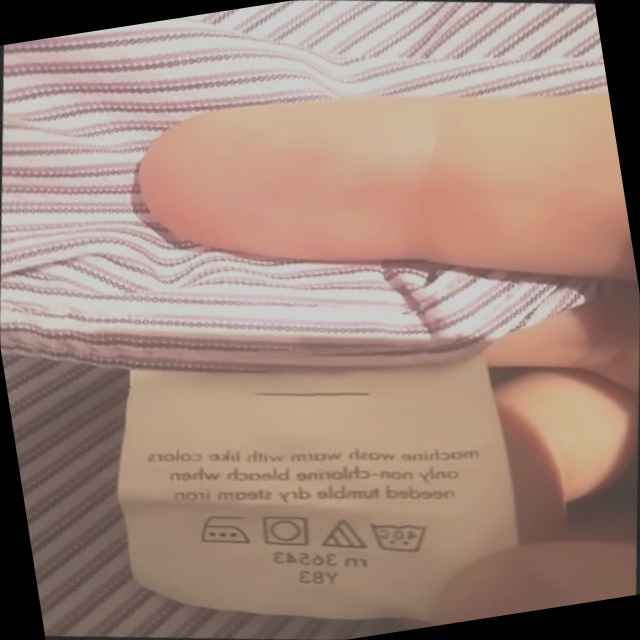40C: (362, 509, 435, 566)
iron_high: (189, 503, 256, 556)
non_chlorine_bleach: (315, 510, 373, 560)
tumble_dry_normal: (252, 507, 315, 557)
